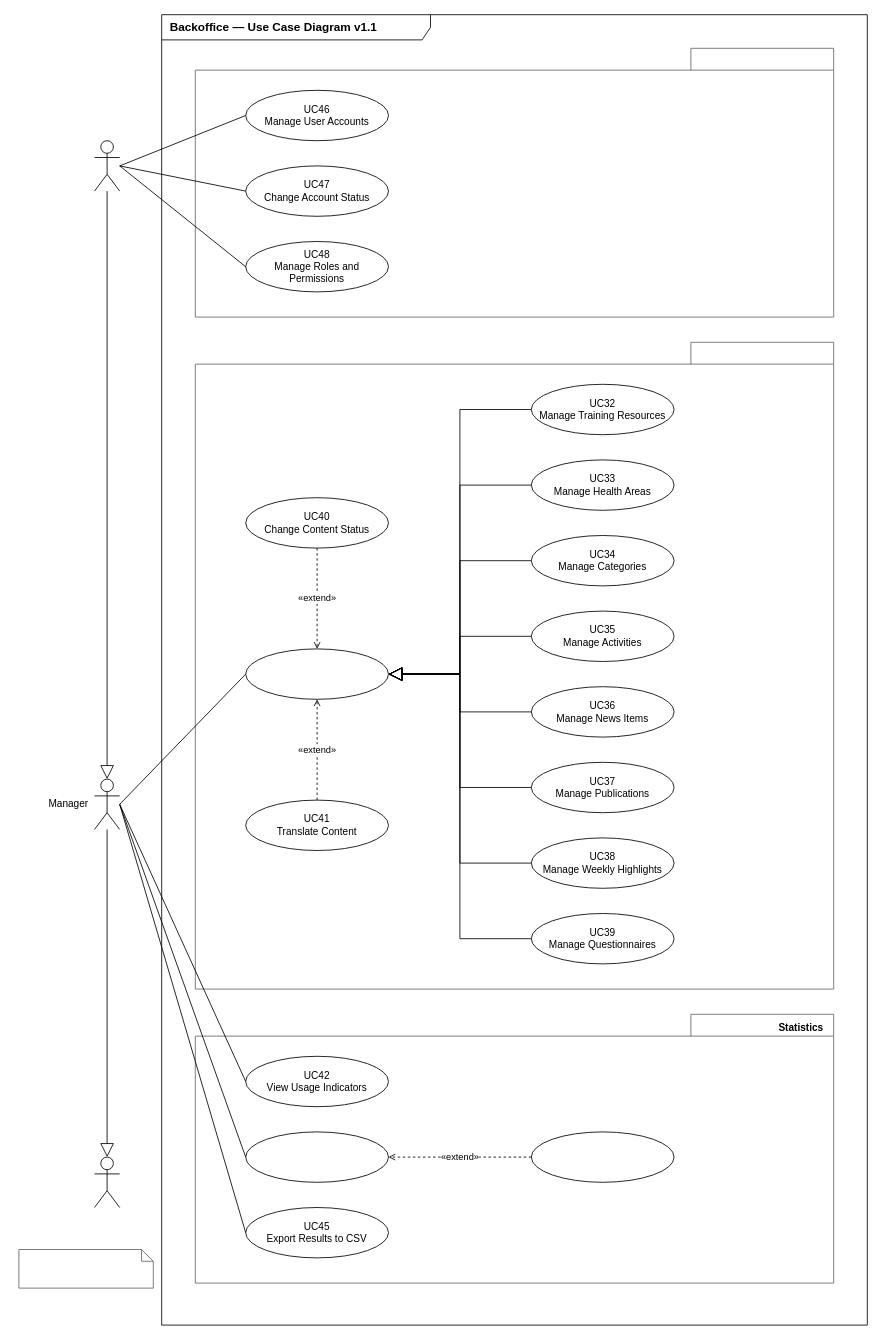
Some shapes in this 882 by 1340 pixel diagram are drawn without their labels. Here are the shapes that lost their labels. From the top down, the box of each, then its label:
(94, 140, 120, 191): Administrator
(194, 47, 834, 317): Administration
(245, 648, 388, 699): UC31 Manage Content
(194, 341, 834, 989): Content Management
(245, 1131, 388, 1182): UC43 View Learning Indicators
(530, 1131, 674, 1182): UC44 Compare Groups
(94, 1156, 120, 1208): Registered User
(18, 1249, 153, 1288): Registered User use cases: see the Frontoffice page.
